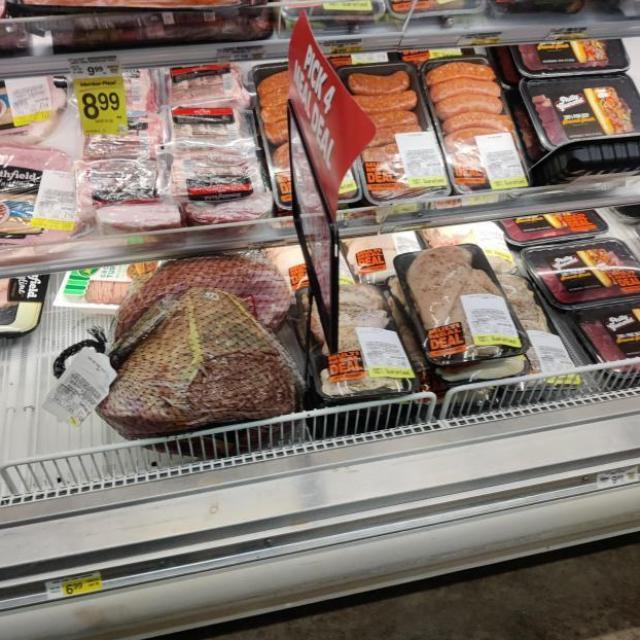Meat: (74, 290, 305, 457), (164, 64, 277, 220), (394, 243, 530, 366), (301, 284, 424, 407), (341, 66, 452, 200), (425, 54, 529, 191), (485, 272, 583, 386), (0, 143, 95, 254), (86, 116, 169, 227), (523, 238, 640, 310), (530, 73, 640, 148)
